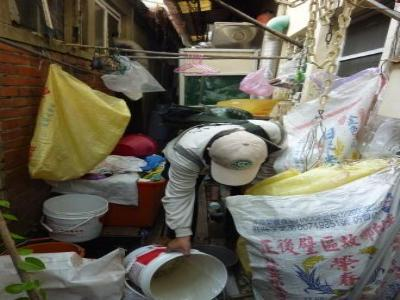bucket: (121, 244, 228, 300), (42, 193, 109, 244), (114, 133, 158, 157)
plastic_bag: (223, 171, 399, 300), (26, 61, 131, 180), (275, 67, 380, 173), (100, 53, 166, 100), (238, 65, 276, 98)
